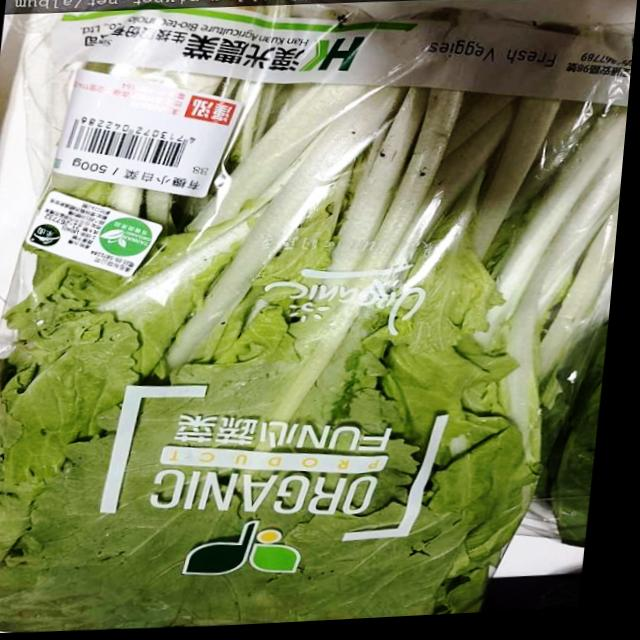chinese_cabbage: (8, 46, 557, 634)
